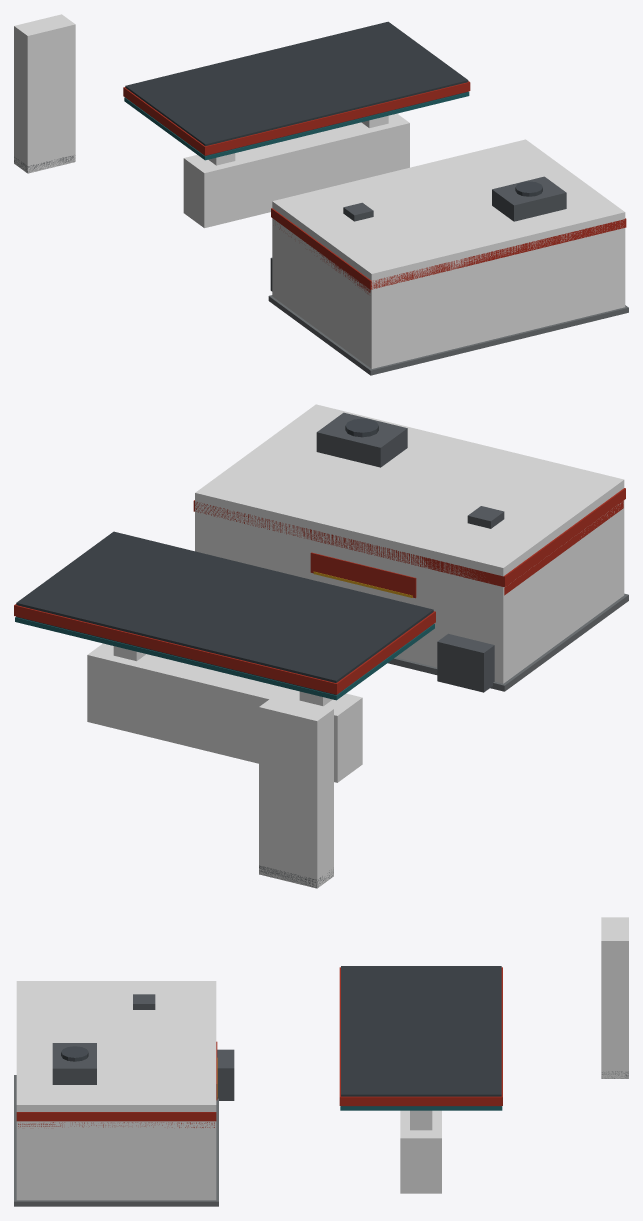
File: abandoned_gas_station.glb
The picture shows the model from 3 angles, top to bottom: view 1: azimuth 30°, elevation 25°; view 2: azimuth 150°, elevation 25°; view 3: azimuth 270°, elevation 25°; orthographic projection. The views are drawn at different scales.
Visible parts, largest first — view 1: COL_BOX_Store_MainBuilding, Canopy_RoofSlab, COL_BOX_Pump_Island, COL_BOX_Roadside_Sign, Canopy_FasciaRed, Store_ParapetCap, Store_Foundation, Store_HVAC_Unit, Canopy_FasciaTeal; view 2: COL_BOX_Store_MainBuilding, Canopy_RoofSlab, COL_BOX_Pump_Island, COL_BOX_Roadside_Sign, Canopy_FasciaRed, Store_ParapetCap, Store_HVAC_Unit, Store_IceCooler, Canopy_FasciaTeal, Store_Signboard, Store_Foundation, Store_BrandStripeRed; view 3: COL_BOX_Store_MainBuilding, Canopy_RoofSlab, COL_BOX_Roadside_Sign, COL_BOX_Pump_Island, Canopy_FasciaRed, Store_Foundation, Store_ParapetCap, Store_HVAC_Unit, Store_IceCooler, Canopy_FasciaTeal, COL_BOX_Canopy_ColR.
Part boxes in pixels (bbox=[...]): COL_BOX_Store_MainBuilding: bbox=[272, 139, 625, 368]; Canopy_RoofSlab: bbox=[125, 21, 468, 156]; COL_BOX_Pump_Island: bbox=[183, 113, 409, 228]; COL_BOX_Roadside_Sign: bbox=[14, 14, 75, 173]; Canopy_FasciaRed: bbox=[123, 81, 470, 155]; Store_ParapetCap: bbox=[271, 208, 626, 289]; Store_Foundation: bbox=[268, 295, 628, 375]; Store_HVAC_Unit: bbox=[492, 176, 566, 221]; Canopy_FasciaTeal: bbox=[124, 91, 469, 160]; COL_BOX_Store_MainBuilding: bbox=[195, 404, 624, 683]; Canopy_RoofSlab: bbox=[16, 531, 433, 695]; COL_BOX_Pump_Island: bbox=[87, 643, 362, 782]; COL_BOX_Roadside_Sign: bbox=[259, 695, 333, 888]; Canopy_FasciaRed: bbox=[14, 604, 435, 694]; Store_ParapetCap: bbox=[193, 488, 625, 587]; Store_HVAC_Unit: bbox=[316, 412, 407, 467]; Store_IceCooler: bbox=[437, 633, 494, 692]; Canopy_FasciaTeal: bbox=[15, 617, 434, 700]; Store_Signboard: bbox=[310, 552, 416, 598]; Store_Foundation: bbox=[388, 593, 628, 691]; Store_BrandStripeRed: bbox=[504, 501, 623, 595]; COL_BOX_Store_MainBuilding: bbox=[16, 981, 216, 1200]; Canopy_RoofSlab: bbox=[341, 966, 501, 1106]; COL_BOX_Roadside_Sign: bbox=[601, 917, 628, 1078]; COL_BOX_Pump_Island: bbox=[400, 1110, 441, 1193]; Canopy_FasciaRed: bbox=[339, 967, 502, 1105]; Store_Foundation: bbox=[14, 1075, 218, 1206]; Store_ParapetCap: bbox=[16, 1112, 216, 1121]; Store_HVAC_Unit: bbox=[52, 1043, 96, 1084]; Store_IceCooler: bbox=[217, 1049, 234, 1100]; Canopy_FasciaTeal: bbox=[340, 1106, 502, 1110]; COL_BOX_Canopy_ColR: bbox=[410, 1110, 432, 1130].
Bounding box in the file's own units: 13.05 × 5.5 × 22.2.
